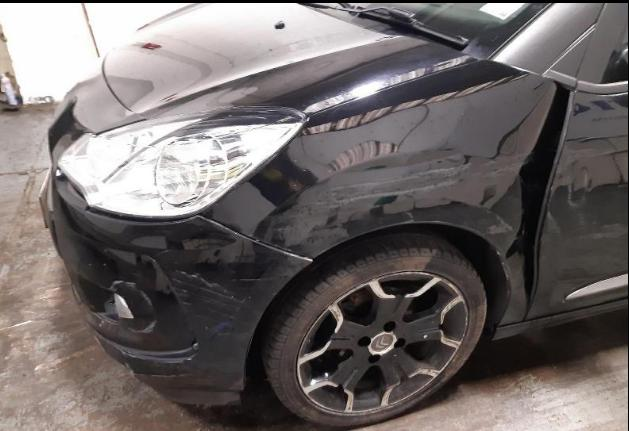Fender: (199, 59, 575, 326)
Front-bumper: (39, 92, 311, 377)
Front-door: (525, 0, 629, 320)
Front-wheel: (262, 233, 486, 428)
Front-window: (604, 18, 628, 82)
Headlight: (56, 106, 308, 221)
Hood: (70, 1, 481, 135)
Rocker-panel: (492, 297, 629, 342)
Windshield: (316, 0, 554, 58)
